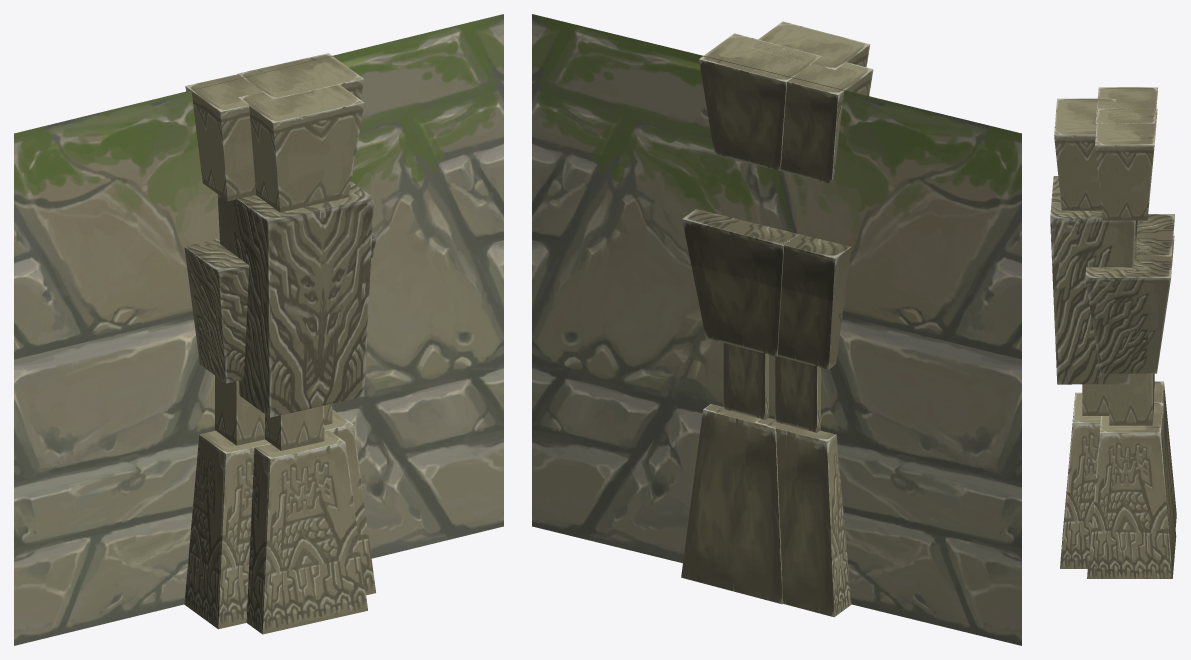
Rendered from wall5.fbx.
3 views of the same model, side by side, from view 1: azimuth 30°, elevation 25°; view 2: azimuth 150°, elevation 25°; view 3: azimuth 270°, elevation 25° (orthographic). The views are drawn at different scales.
Visible parts, largest first — view 1: wallpillar_mid1; view 2: wallpillar_mid1; view 3: wallpillar_mid1.
Part boxes in pixels (box(x1,y1,x2,y2)): wallpillar_mid1: box(14, 14, 503, 645); wallpillar_mid1: box(532, 14, 1021, 645); wallpillar_mid1: box(1050, 87, 1176, 578).
Bounding box in the file's own units: 2 × 2 × 0.5327.
